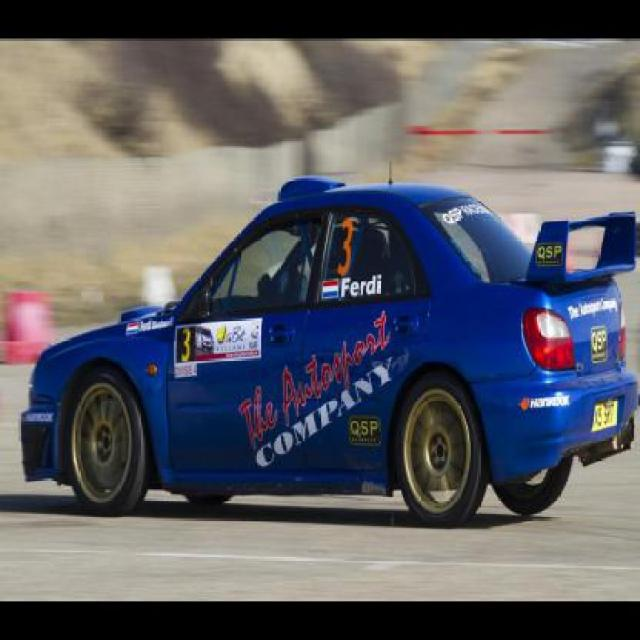License-Plates: (591, 399, 619, 432)
